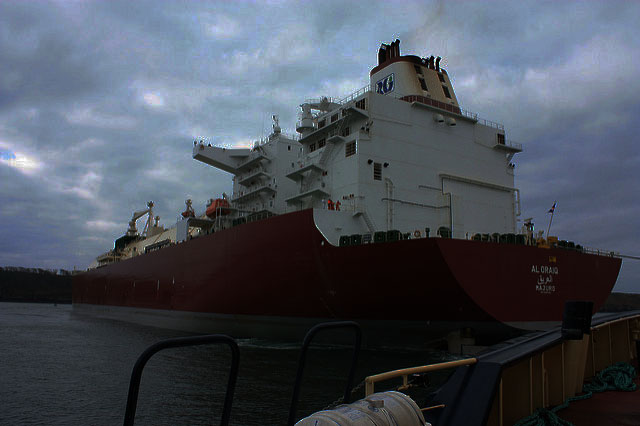LNG_ship: (74, 43, 617, 331)
